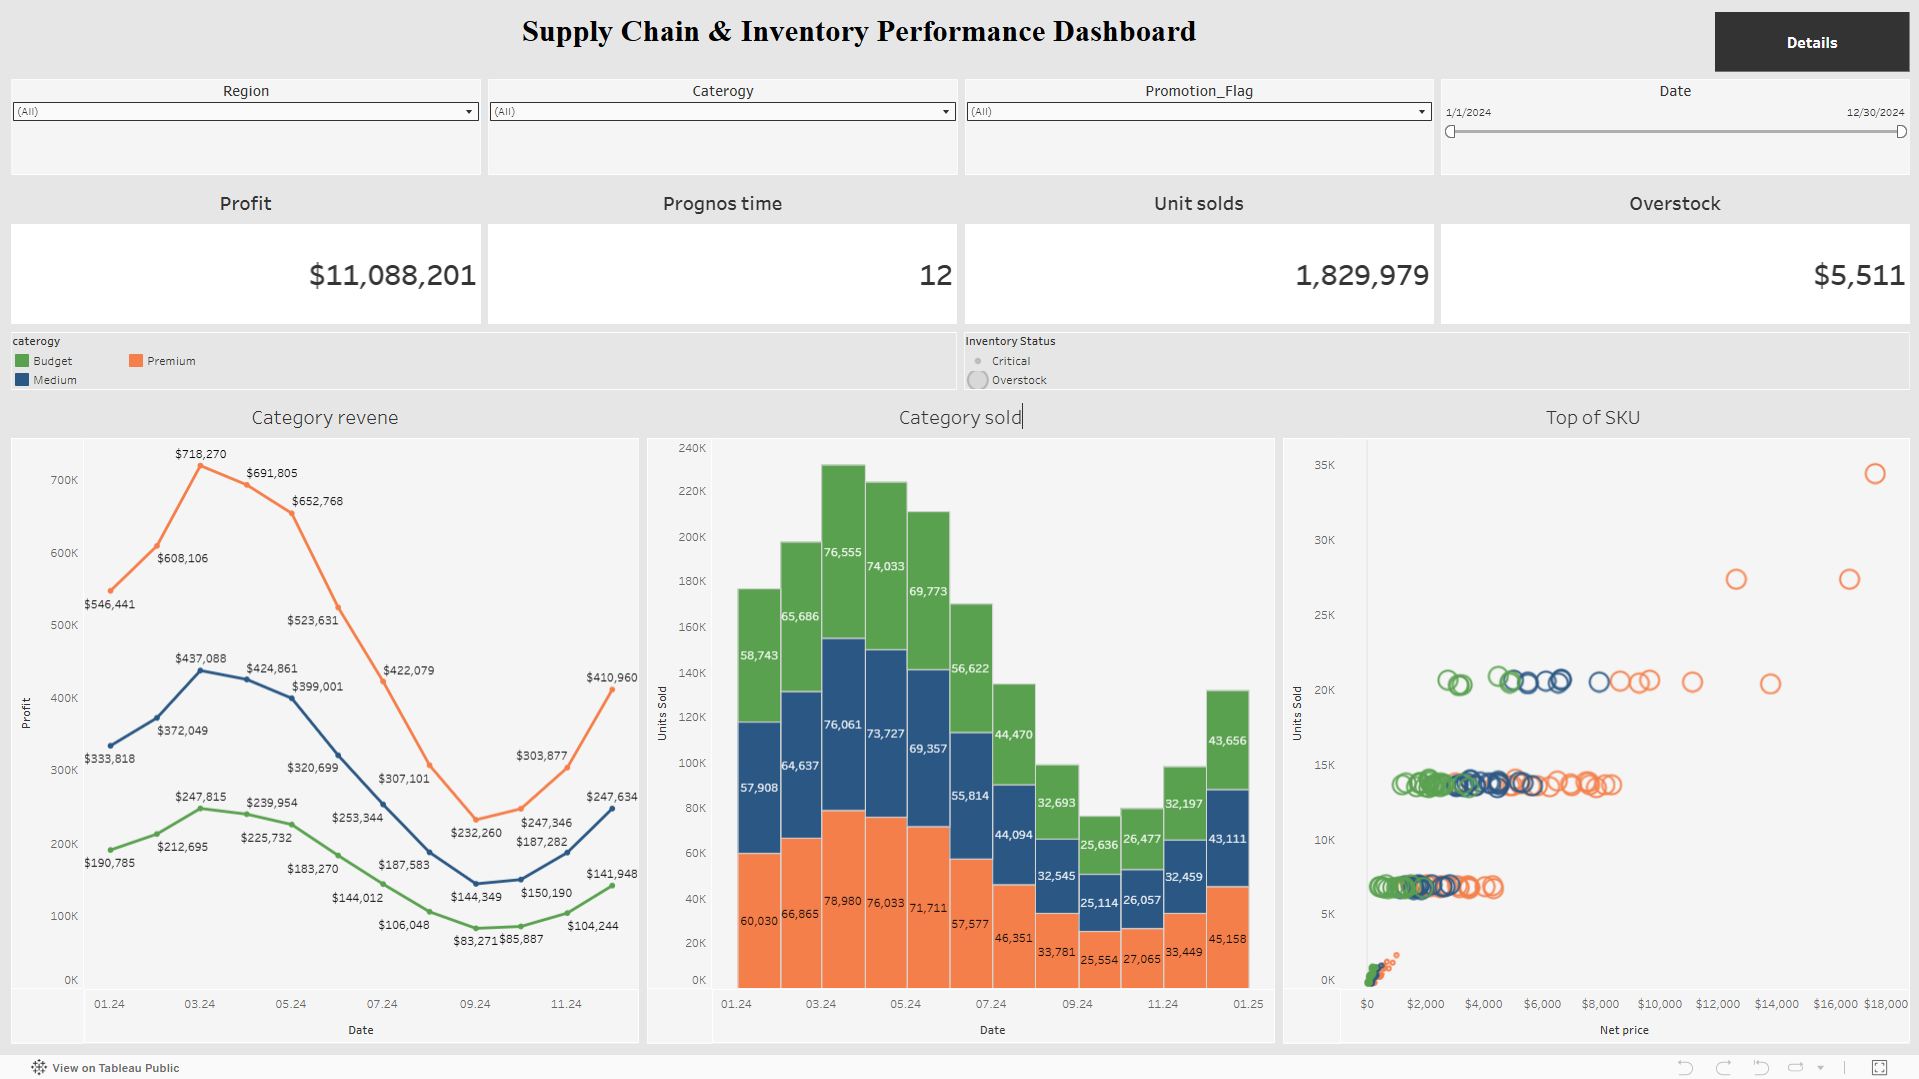

What the dashboard file says about the page in this screenshot:
{"tool":"tableau","page":{"name":"Dashboard 2","canvas":[1000,1000],"units":"permille","ordinal":1},"visuals":[{"type":"text","box":[4.8,9.3,885.3,63.9]},{"type":"dashboard-object","box":[890.1,9.3,105,63.9]},{"type":"filter","title":"Category revene","param":"[federated.1okh95z131q7rw11rqv2p0bynjjh].[none:Region:nk]","box":[4.8,73.3,248,97.7]},{"type":"filter","title":"Category revene","param":"[federated.1okh95z131q7rw11rqv2p0bynjjh].[none:Calculation_0626173847887875:nk]","box":[252.9,73.3,247.4,97.7]},{"type":"filter","title":"Category revene","param":"[federated.1okh95z131q7rw11rqv2p0bynjjh].[none:Promotion_Flag:ok]","box":[500.3,73.3,247.4,97.7]},{"type":"filter","title":"Category revene","param":"[federated.1okh95z131q7rw11rqv2p0bynjjh].[none:Date:qk]","box":[747.7,73.3,247.4,97.7]},{"type":"worksheet","title":"Profit","mark":"Automatic","box":[4.8,170.9,248,140.7]},{"type":"worksheet","title":"Prognos time","mark":"Automatic","box":[252.9,170.9,247.4,140.7]},{"type":"worksheet","title":"Unit solds","mark":"Automatic","box":[500.3,170.9,247.4,140.7]},{"type":"worksheet","title":"Overstock","mark":"Automatic","box":[747.7,170.9,247.4,140.7]},{"type":"legend","title":"Category revene","param":"[federated.1okh95z131q7rw11rqv2p0bynjjh].[none:Calculation_0626173847887875:nk]","box":[4.8,311.6,495.5,61.6]},{"type":"legend","title":"Top of SKU ","param":"[federated.1okh95z131q7rw11rqv2p0bynjjh].[none:Calculation_0632788460462080:nk]","box":[500.3,311.6,494.9,61.6]},{"type":"worksheet","title":"Category revene","mark":"Automatic","rows":["Calculation_0626173832802306"],"cols":["Date"],"box":[4.8,373.3,330.1,617.4]},{"type":"worksheet","title":"Category sold","mark":"Bar","rows":["Units_Sold"],"cols":["Date"],"box":[334.9,373.3,330.1,617.4]},{"type":"worksheet","title":"Top of SKU ","mark":"Automatic","rows":["Units_Sold"],"cols":["Calculation_0626173830295552"],"box":[665.1,373.3,330.1,617.4]}]}

Visuals, with their boxes on the dashboard's canvas, which has no fixed pixel size, in thousandths of its width and height (x1, y1, x2, y2). These are canvas units, not pixel positions in the 1919x1079 screenshot, which may show the page scaled, cropped or inside an application window:
text: locate(5, 9, 890, 73)
dashboard-object: locate(890, 9, 995, 73)
"Category revene" filter: locate(5, 73, 253, 171)
"Category revene" filter: locate(253, 73, 500, 171)
"Category revene" filter: locate(500, 73, 748, 171)
"Category revene" filter: locate(748, 73, 995, 171)
"Profit" worksheet: locate(5, 171, 253, 312)
"Prognos time" worksheet: locate(253, 171, 500, 312)
"Unit solds" worksheet: locate(500, 171, 748, 312)
"Overstock" worksheet: locate(748, 171, 995, 312)
"Category revene" legend: locate(5, 312, 500, 373)
"Top of SKU " legend: locate(500, 312, 995, 373)
"Category revene" worksheet: locate(5, 373, 335, 991)
"Category sold" worksheet (Bar marks): locate(335, 373, 665, 991)
"Top of SKU " worksheet: locate(665, 373, 995, 991)
